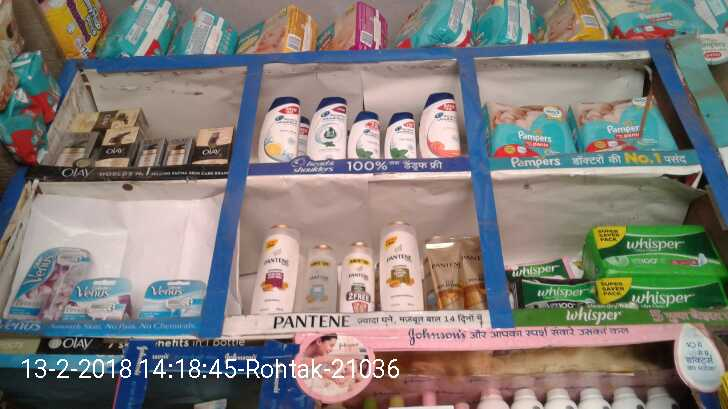venus: (139, 281, 207, 318), (28, 249, 64, 317), (70, 283, 132, 320)
